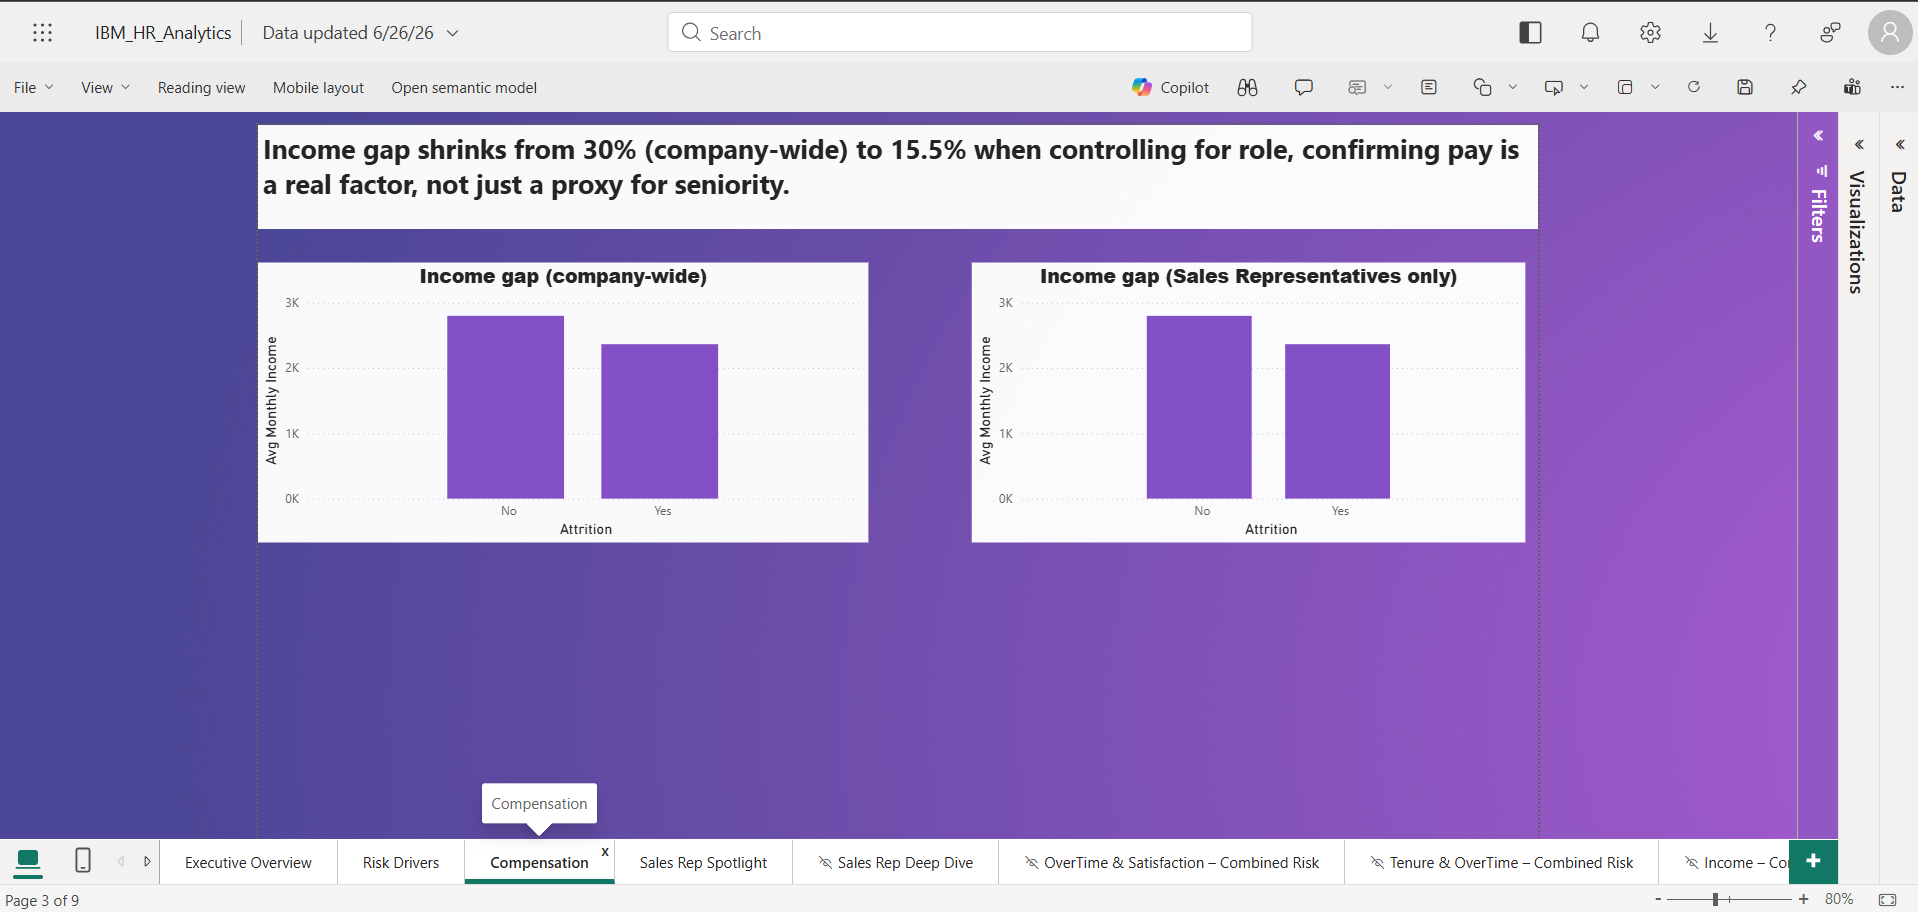

The dashboard page shown, as its layout file describes it:
{"tool":"powerbi","page":{"name":"Compensation","canvas":[1280,720],"ordinal":2},"visuals":[{"type":"clusteredColumnChart","title":"Income gap (company-wide)","fields":{"Category":["Employee Attrition.Attrition"],"Y":["Employee Attrition.Avg Monthly Income"]},"box":[0,137.6,610.4,280.1],"z":0},{"type":"clusteredColumnChart","title":"Income gap (Sales Representatives only)","fields":{"Category":["Employee Attrition.Attrition"],"Y":["Employee Attrition.Avg Monthly Income"]},"box":[714.1,137.6,553.8,280.1],"z":1000},{"type":"textbox","box":[0,0,1280.8,103.6],"z":2000}]}

Visuals, with their boxes on the page's 1280x720 design canvas (x1, y1, x2, y2). These are canvas units, not pixel positions in the 1918x912 screenshot, which may show the page scaled, cropped or inside an application window:
"Income gap (company-wide)" clusteredColumnChart: box=[0, 138, 610, 418]
"Income gap (Sales Representatives only)" clusteredColumnChart: box=[714, 138, 1268, 418]
textbox: box=[0, 0, 1281, 104]
